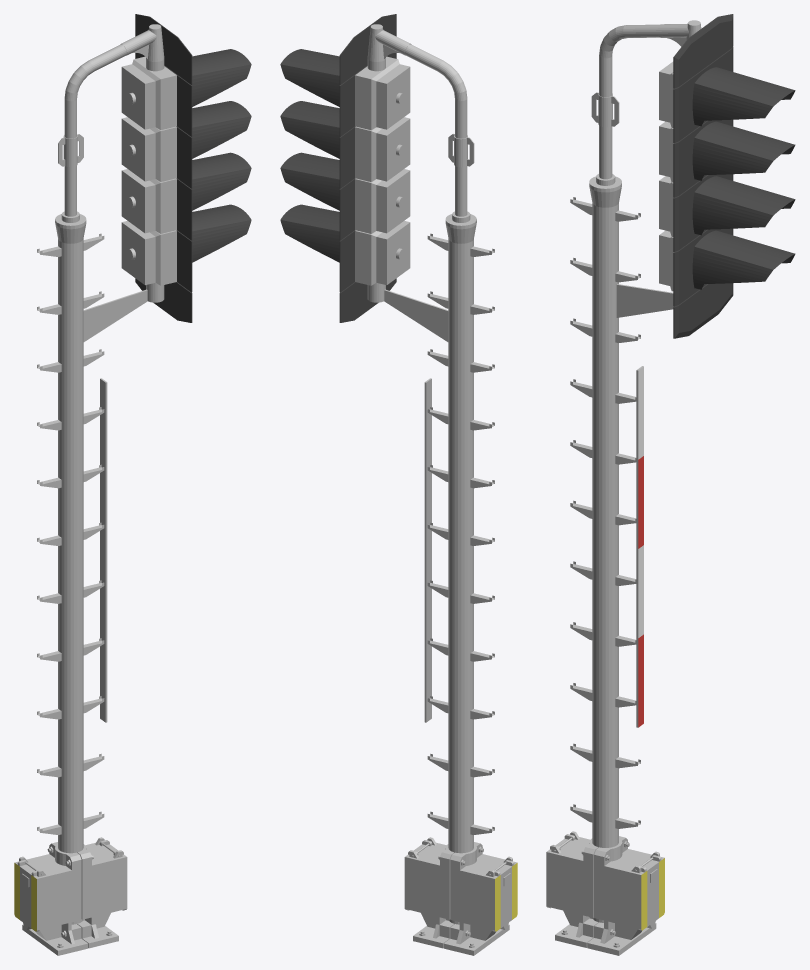
File: cz_navestidlo_zelena.glb
3 renders of one model, left to right at view 1: azimuth 30°, elevation 25°; view 2: azimuth 150°, elevation 25°; view 3: azimuth 330°, elevation 25°, orthographic. The views are drawn at different scales.
Visible parts, largest first — view 1: cz_navestidlo_zelena; view 2: cz_navestidlo_zelena; view 3: cz_navestidlo_zelena.
Boxes of the visible parts, <box> form: cz_navestidlo_zelena: <box>14,14,251,955</box>; cz_navestidlo_zelena: <box>280,14,517,955</box>; cz_navestidlo_zelena: <box>546,14,795,955</box>.
Size of the model in its own units: 1.34 by 5.22 by 0.6.
